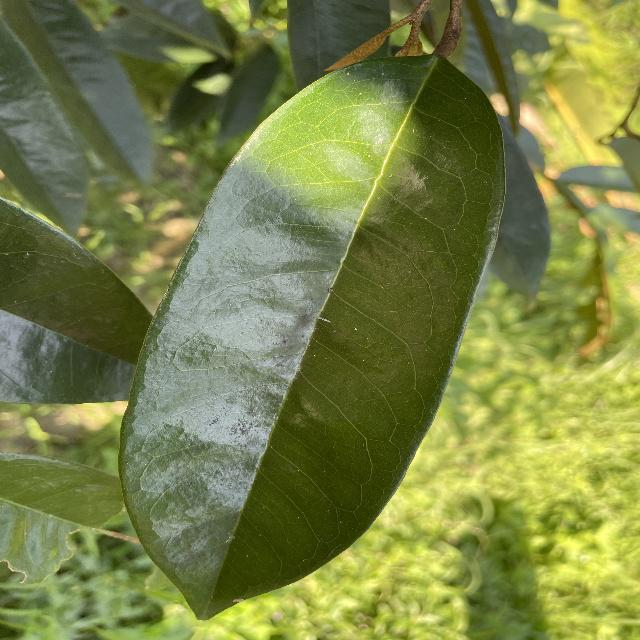No Disease: (111, 41, 519, 632)
